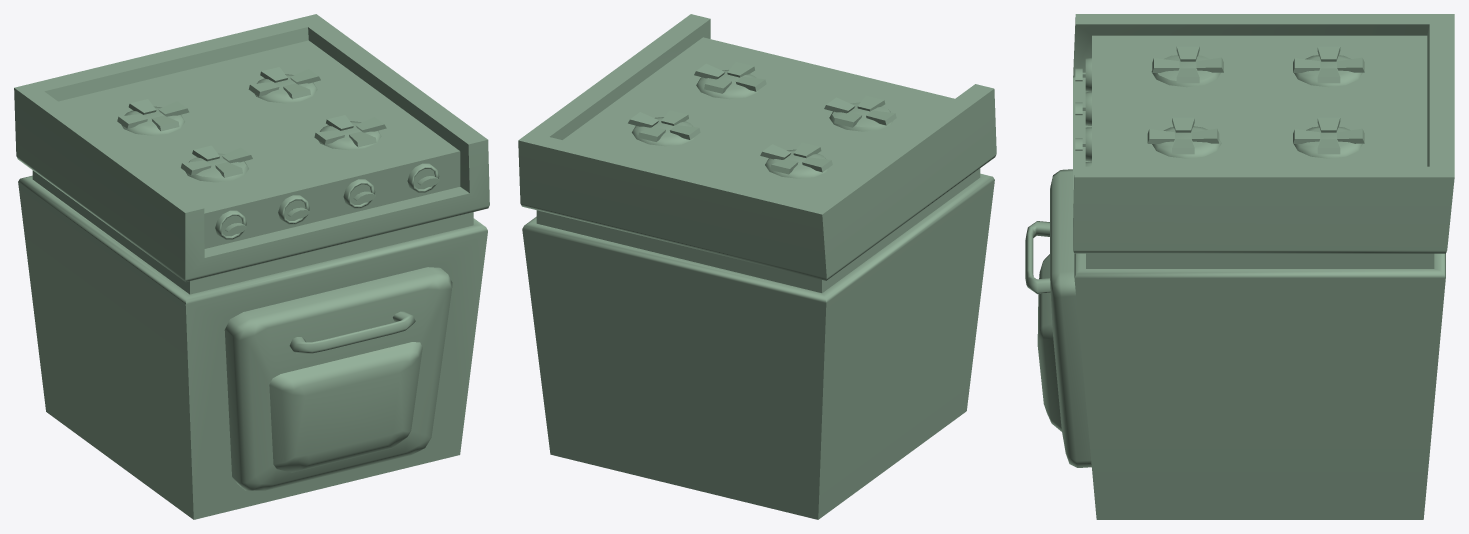
File: Fornello.fbx
The picture shows the model from 3 angles, left to right: view 1: azimuth 30°, elevation 25°; view 2: azimuth 150°, elevation 25°; view 3: azimuth 270°, elevation 25°; orthographic projection. The views are drawn at different scales.
Parts seen in each view (by area): view 1: Fornello1; view 2: Fornello1; view 3: Fornello1.
Boxes of the visible parts, left/top/right/bottom form: Fornello1: left=14, top=14, right=489, bottom=519; Fornello1: left=518, top=14, right=996, bottom=519; Fornello1: left=1025, top=14, right=1454, bottom=519.
Bounding box in the file's own units: 90.34 × 90.19 × 99.6.
